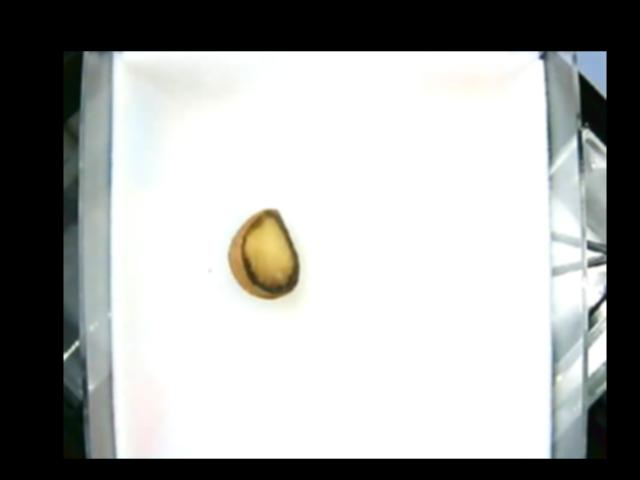Potato: (227, 207, 301, 302)
